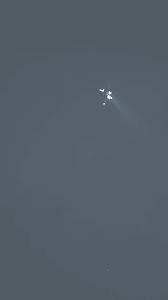Plane: (86, 74, 141, 128)
